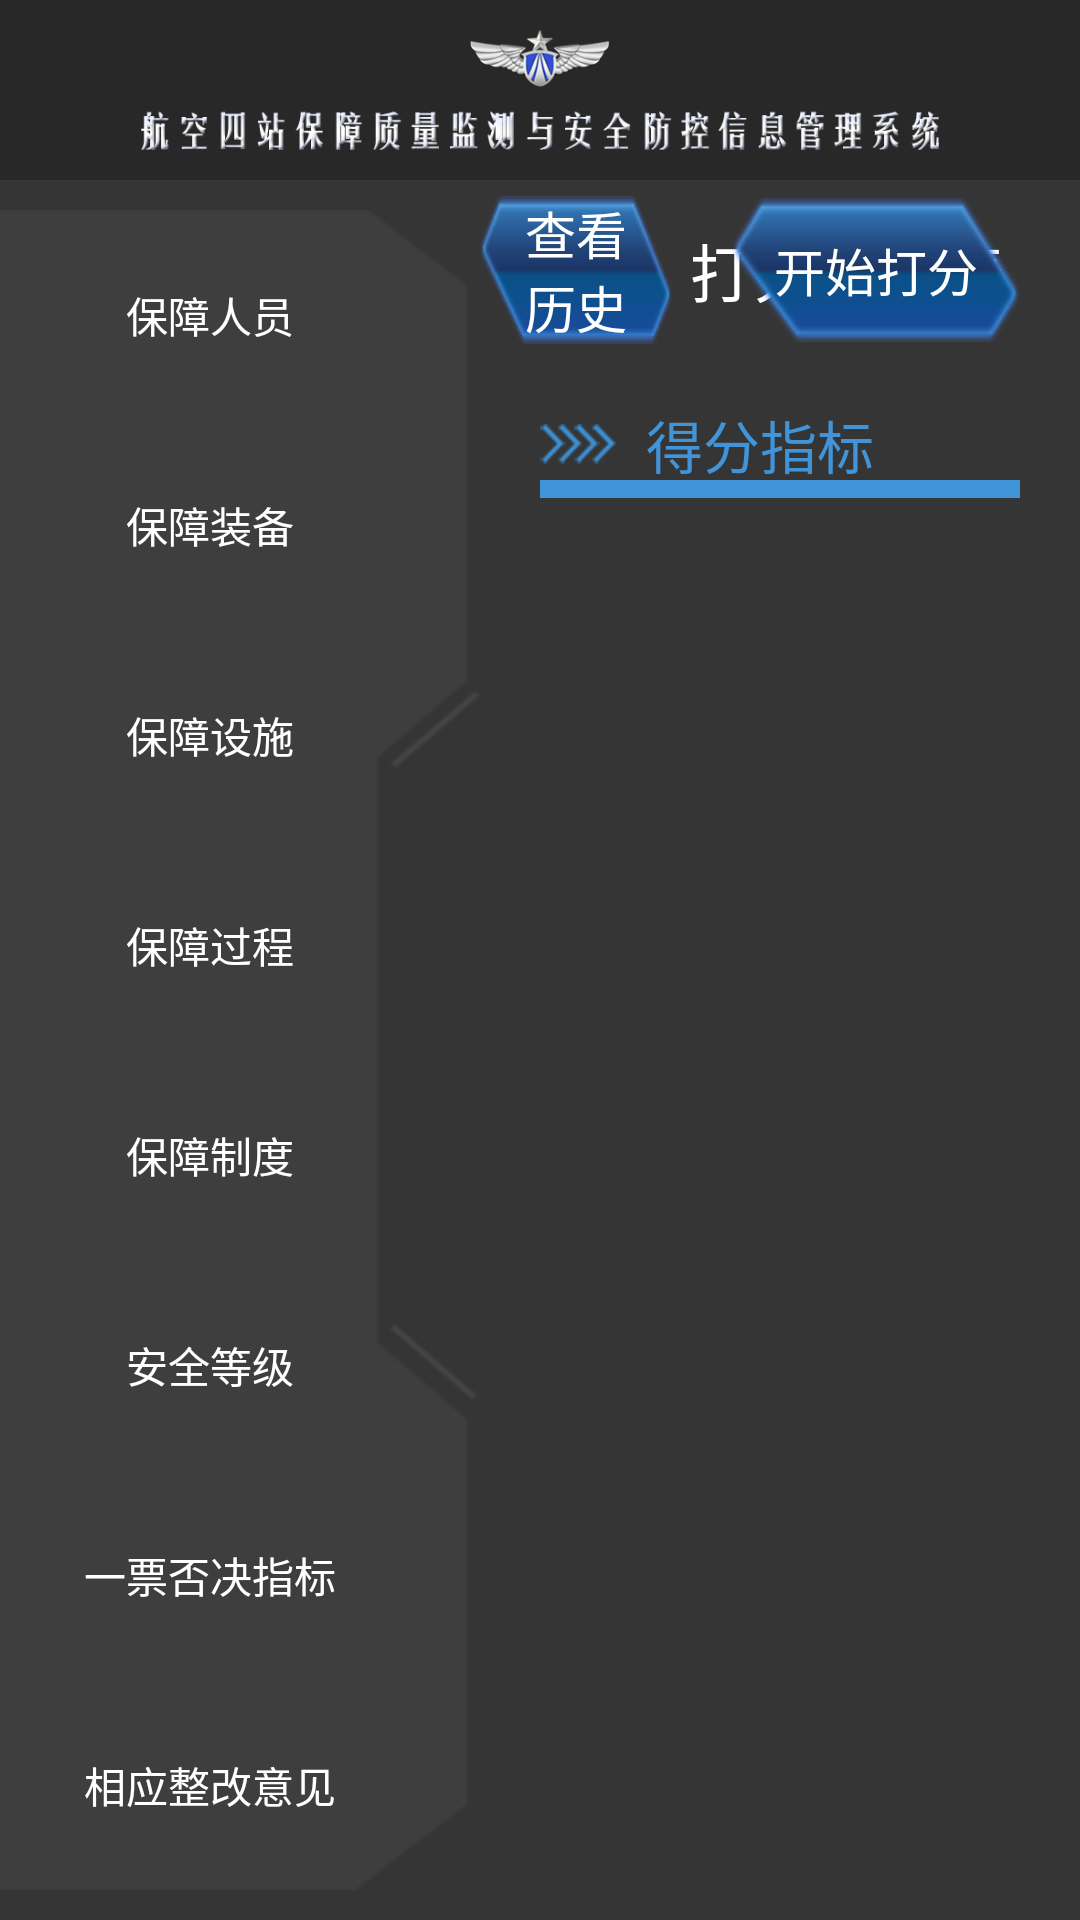

Screen size 1080x1920. Icon name, then its box in pixels as bbox(x1, y1, x2, y2):
arrow: bbox(540, 424, 616, 464)
